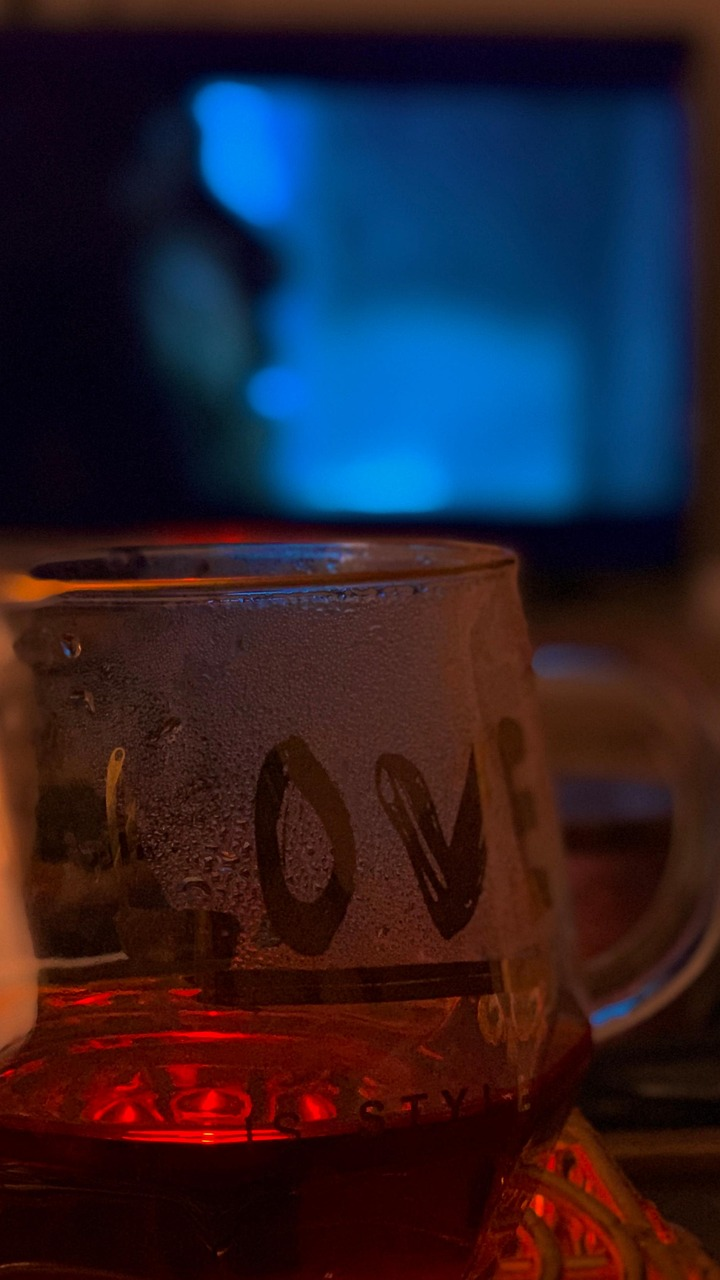mug: (1, 511, 701, 1126)
